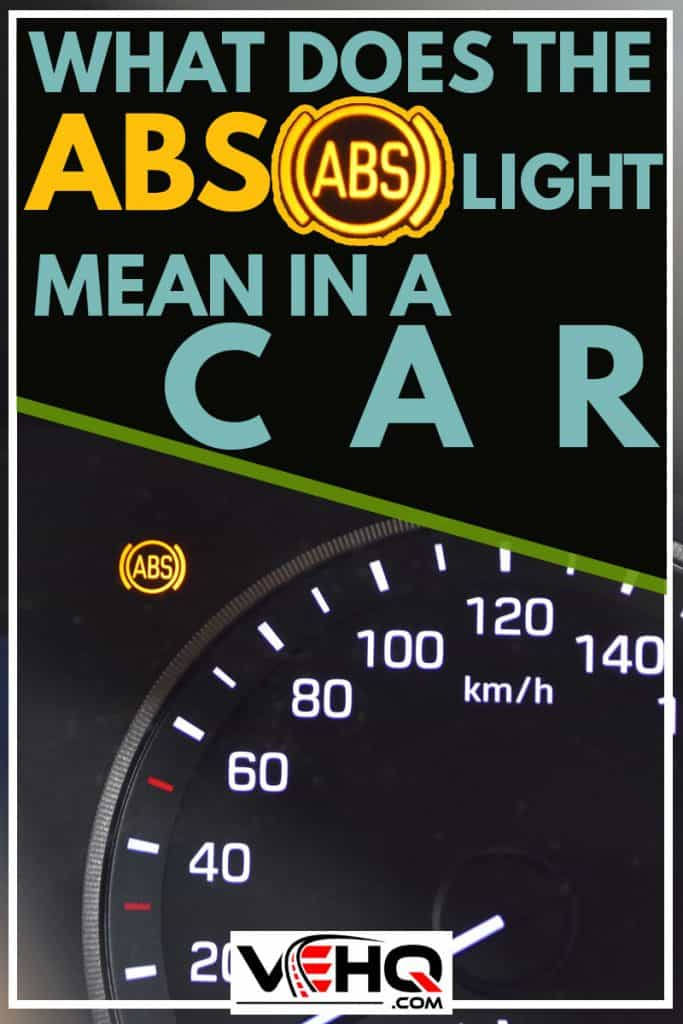ABS: (113, 533, 194, 603)
